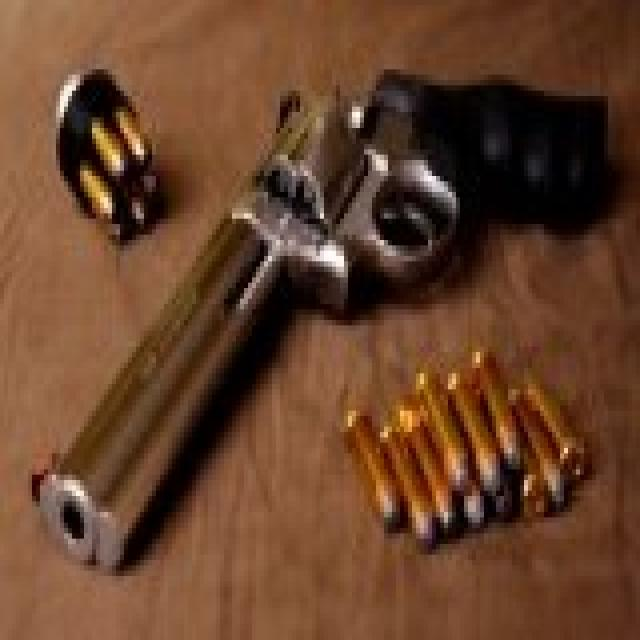Gun: (26, 67, 625, 578)
